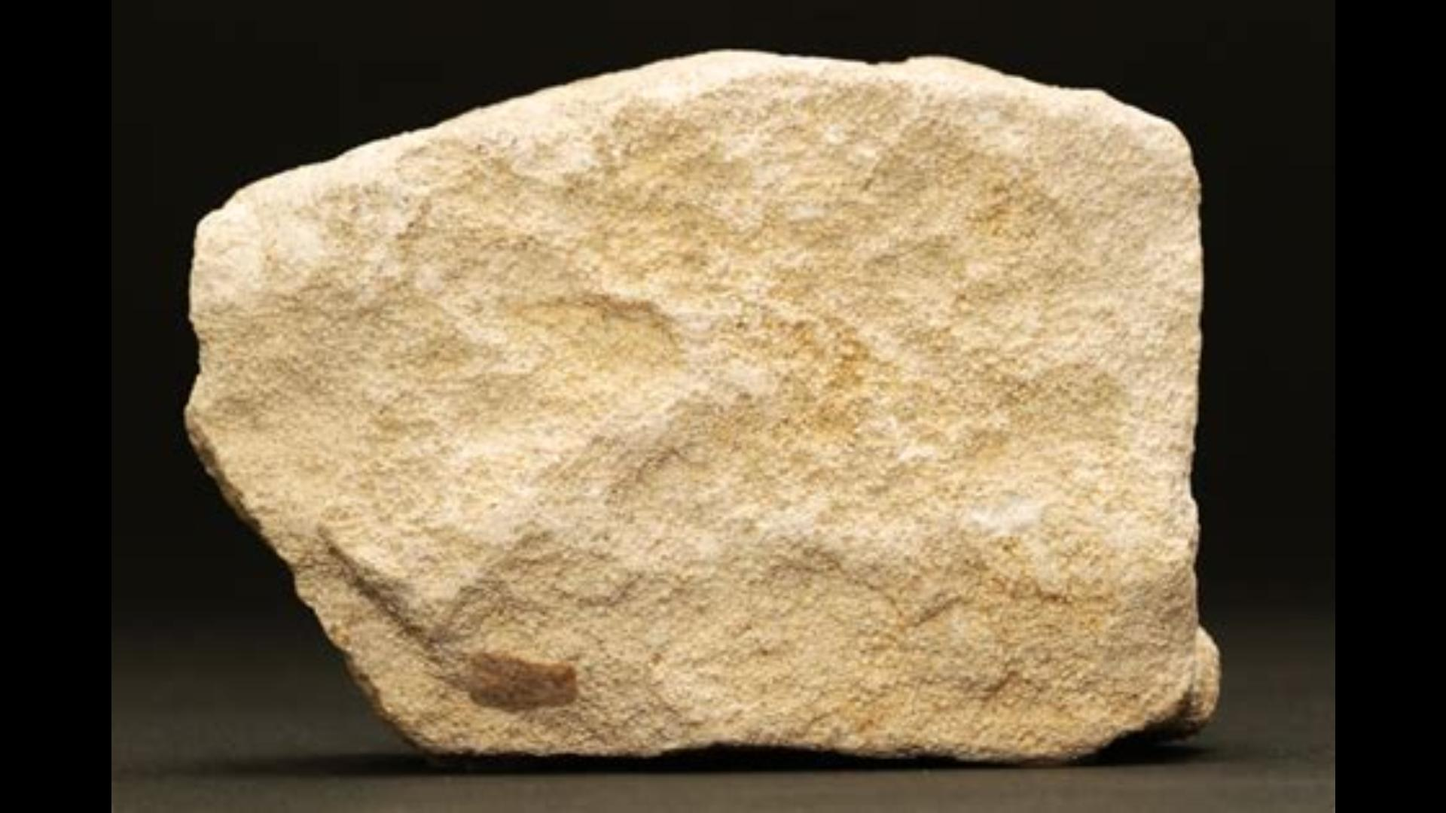rock: (193, 52, 1208, 756)
